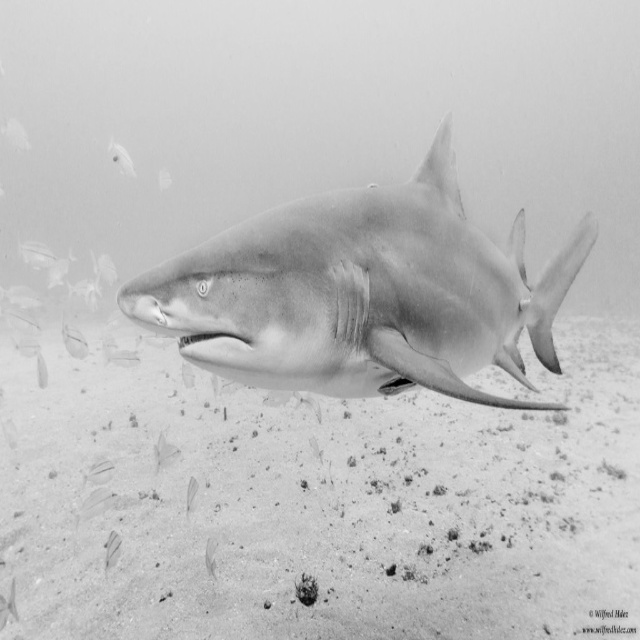Shark: (116, 110, 596, 407)
